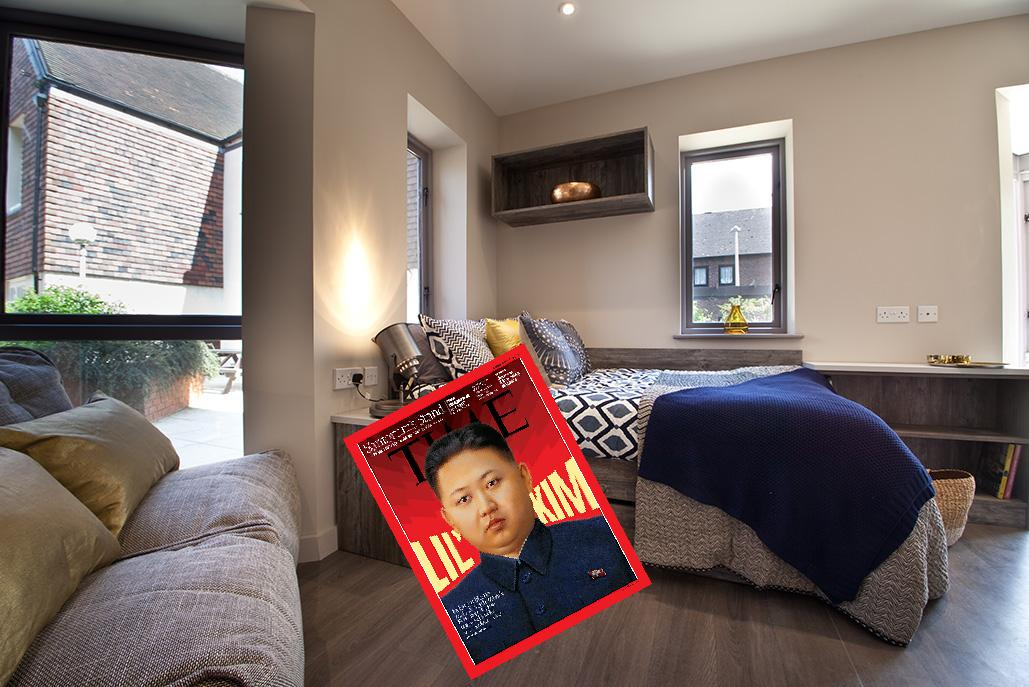times: (338, 341, 658, 687)
